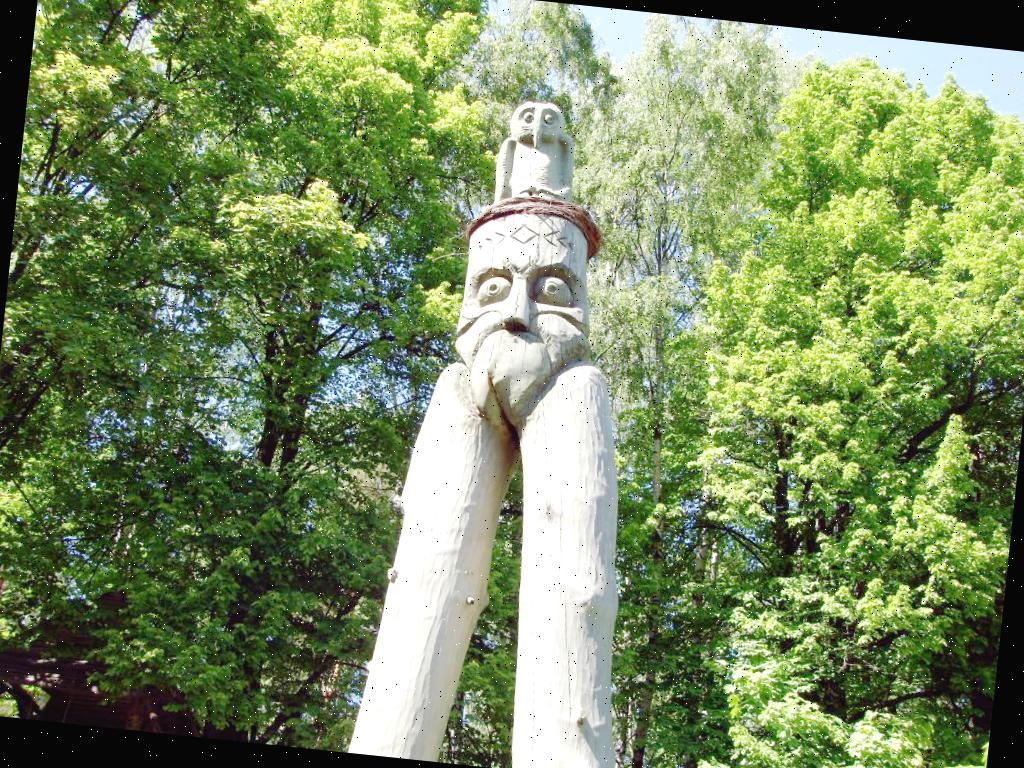Owl: (493, 100, 581, 212)
